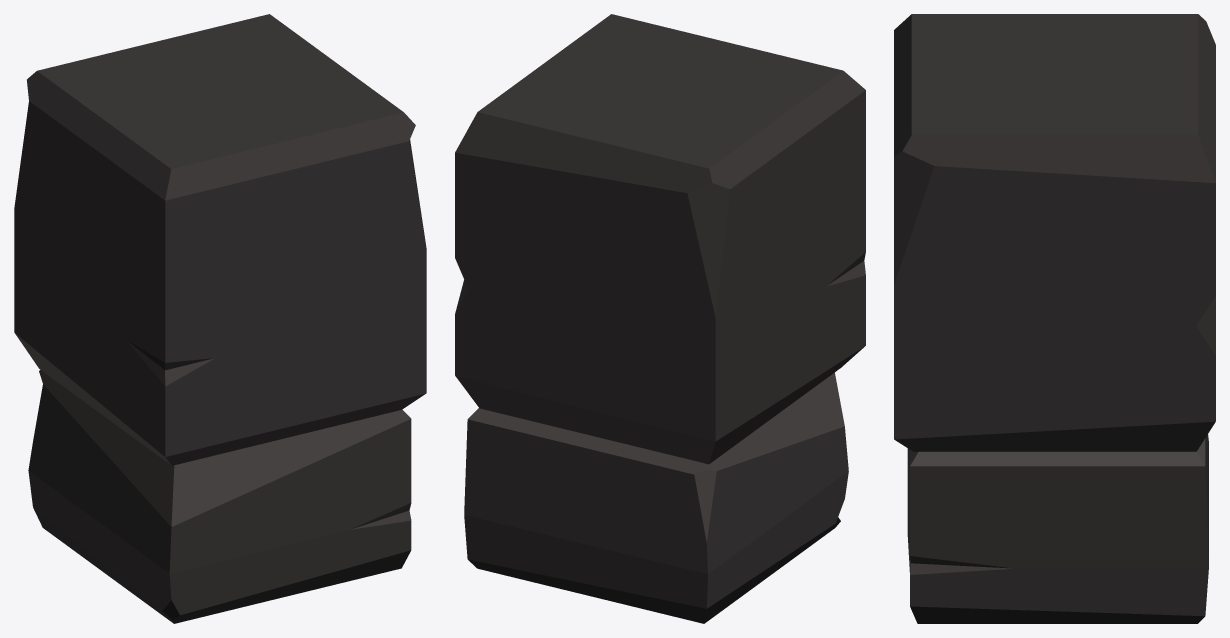
Rendered from Fence_Stone_Block_01.glb.
The picture shows the model from 3 angles, left to right: view 1: azimuth 30°, elevation 25°; view 2: azimuth 150°, elevation 25°; view 3: azimuth 270°, elevation 25°; orthographic projection. The views are drawn at different scales.
Visible parts, largest first — view 1: Fence_Stone_Block_01; view 2: Fence_Stone_Block_01; view 3: Fence_Stone_Block_01.
Boxes of the visible parts, x1,y1,x2,y2 form: Fence_Stone_Block_01: (14,14,426,623); Fence_Stone_Block_01: (455,14,865,623); Fence_Stone_Block_01: (894,14,1215,623).
Size of what is drawn, in the model's own units: 0.2178 by 0.365 by 0.2178.
1 material, 1 textured.
